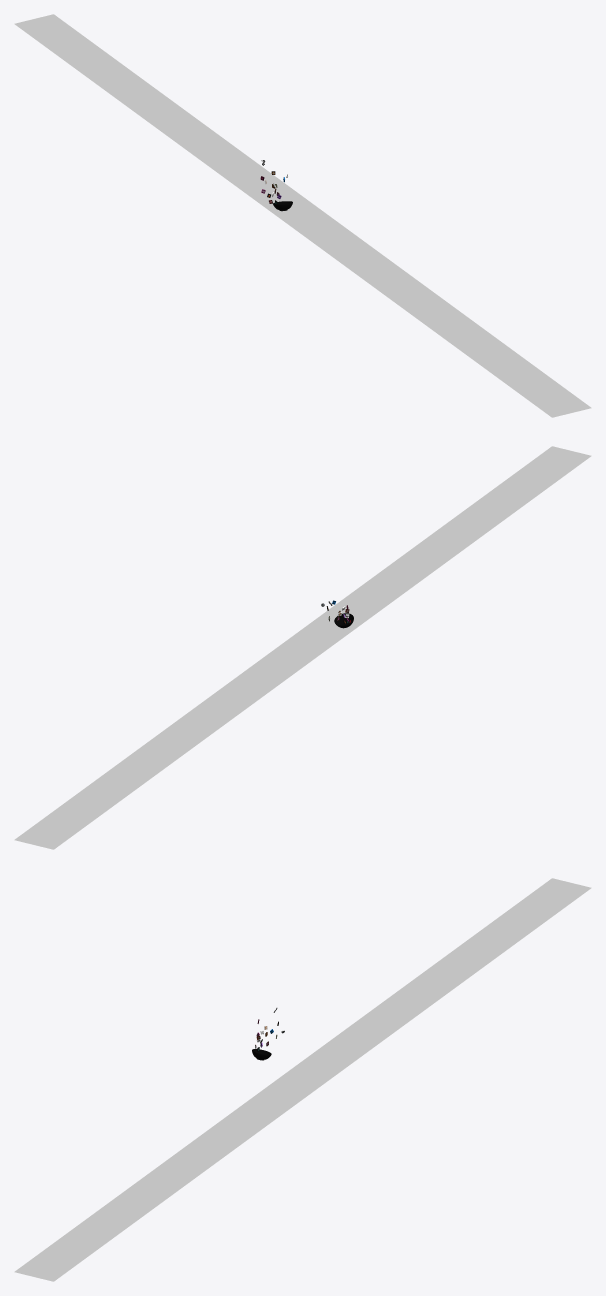
Rendered from for_ModelViewer_1.glb.
3 renders of one model, top to bottom at view 1: azimuth 30°, elevation 25°; view 2: azimuth 150°, elevation 25°; view 3: azimuth 330°, elevation 25°, orthographic.
Visible parts, largest first — view 1: Plane; view 2: Plane; view 3: Plane.
Part boxes in pixels (x1,y1,x2,y2): Plane: [14, 14, 591, 417]; Plane: [14, 446, 591, 849]; Plane: [14, 878, 591, 1281].
Bounding box in the file's own units: 69.1 × 61.12 × 1008.
Materials: 19 (16 with a texture image).
